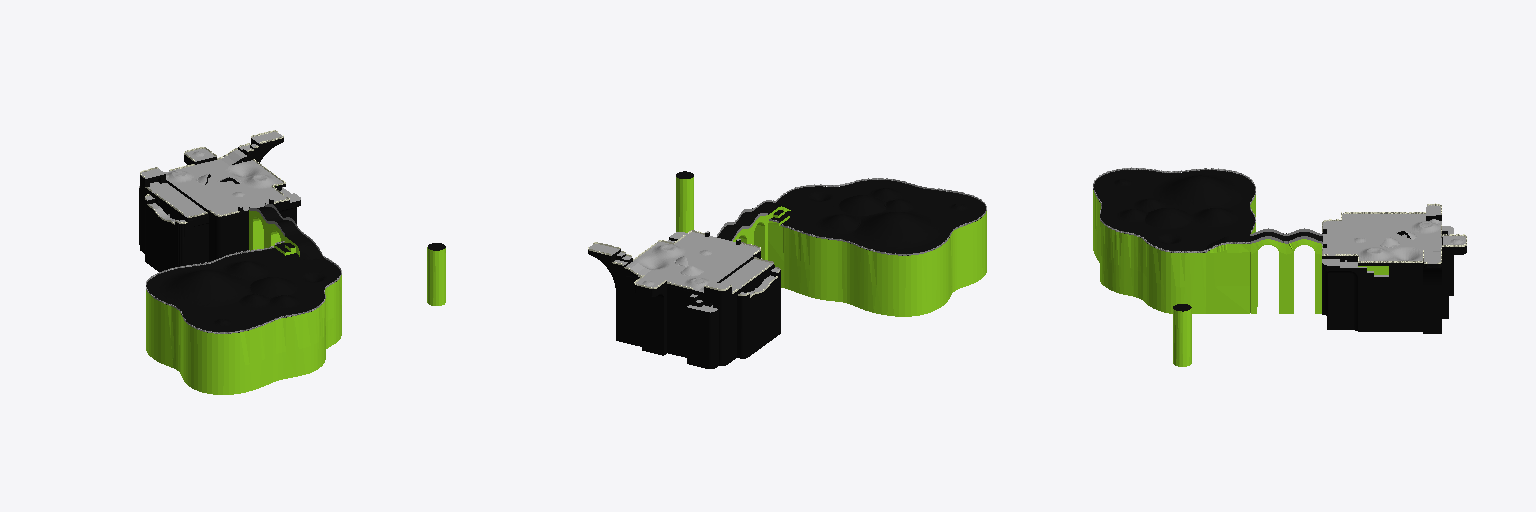
File: Simple.obj
3 views of the same model, side by side, from view 1: azimuth 30°, elevation 25°; view 2: azimuth 150°, elevation 25°; view 3: azimuth 270°, elevation 25° (orthographic).
Parts seen in each view (by area): view 1: CapWorldHomeGround000.obj; view 2: CapWorldHomeGround000.obj; view 3: CapWorldHomeGround000.obj.
Part boxes in pixels (x1,y1,x2,y2): CapWorldHomeGround000.obj: (139, 130, 445, 394); CapWorldHomeGround000.obj: (588, 171, 986, 368); CapWorldHomeGround000.obj: (1093, 167, 1466, 366).
Bounding box in the file's own units: 20818 × 6088 × 24073.